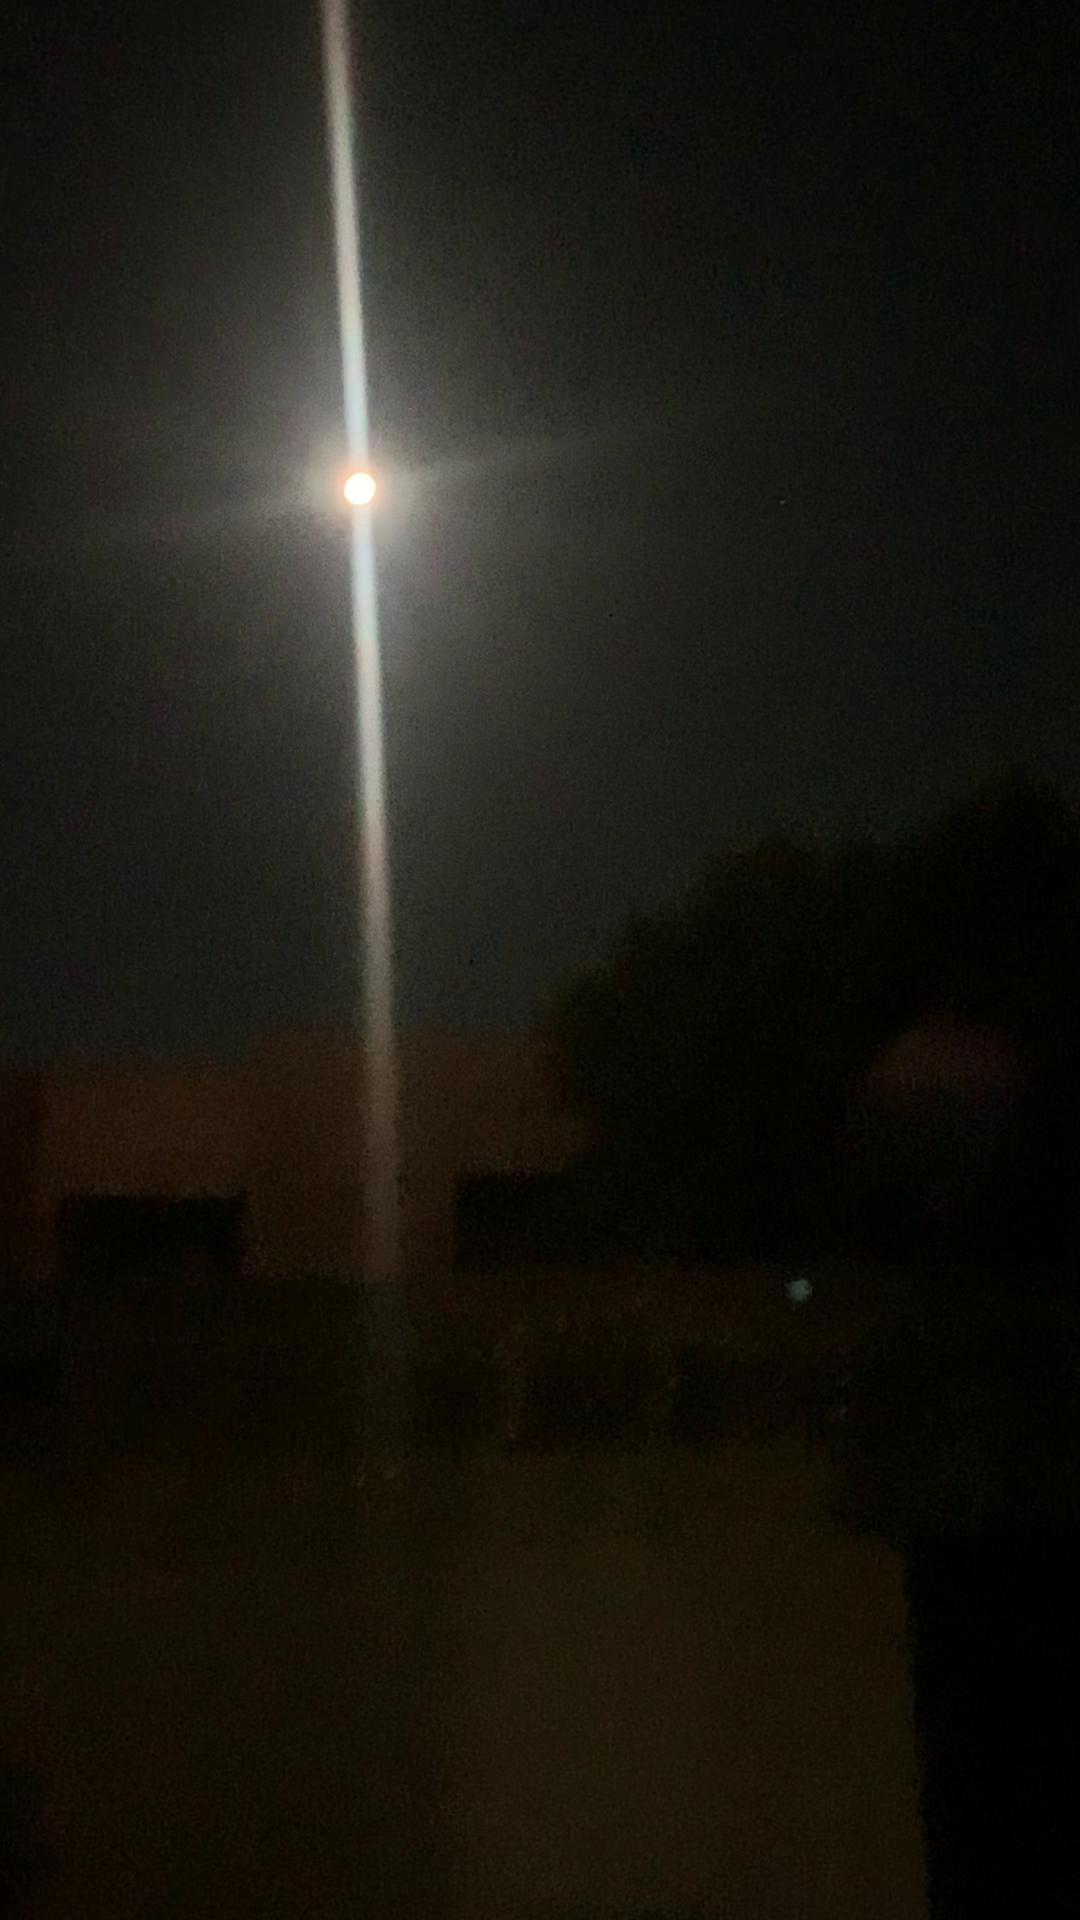moon: (310, 443, 415, 542)
